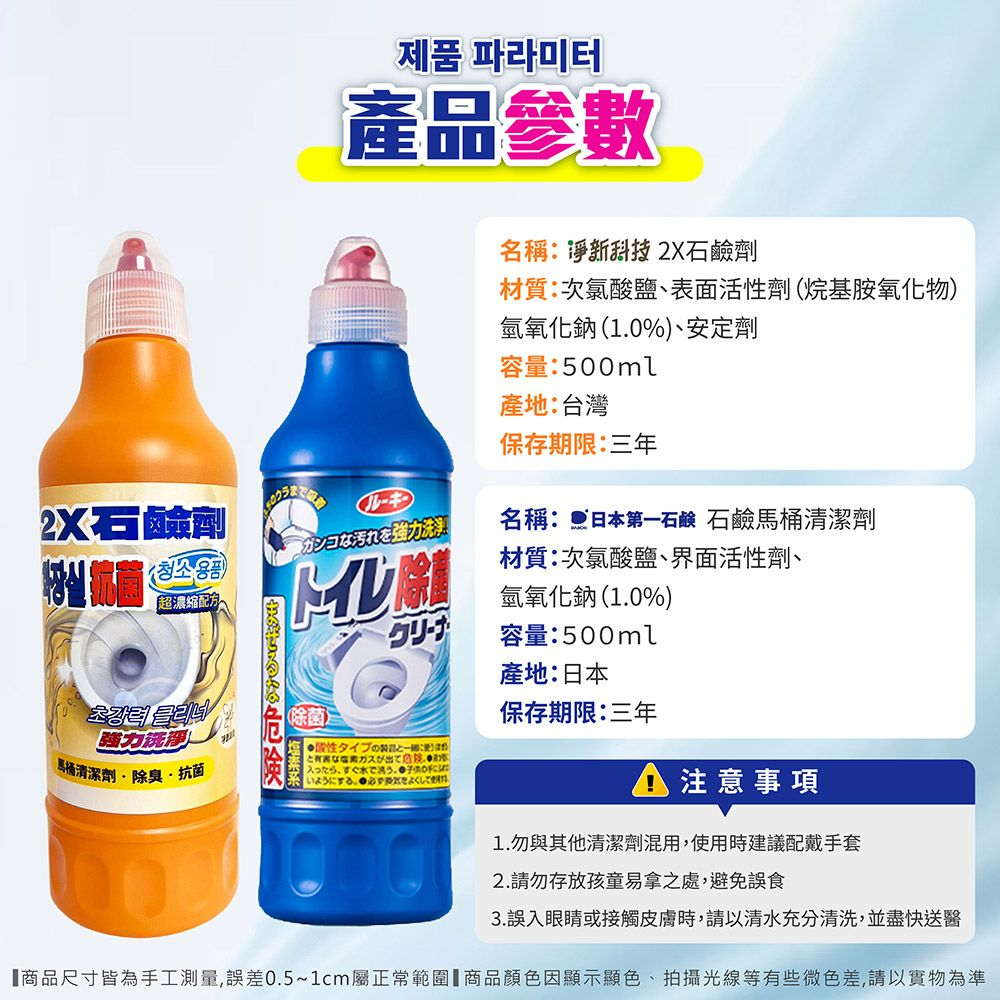cleaner: (250, 222, 476, 935), (33, 223, 251, 936)
